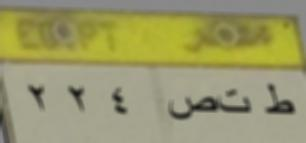2: (24, 78, 49, 114), (67, 82, 90, 115)
4: (107, 84, 131, 118)
Taa: (262, 80, 296, 124)
saad: (168, 91, 217, 123)
taa: (218, 85, 253, 118)
